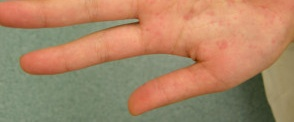SJS-TEN: (142, 0, 294, 74)
